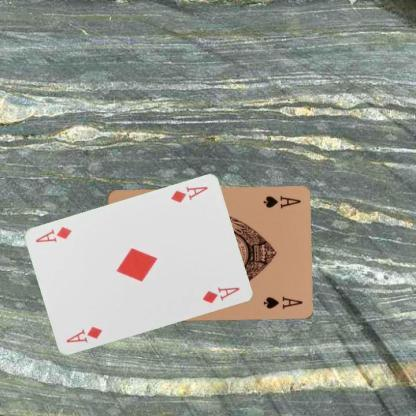Ad: (168, 184, 209, 204), (63, 324, 103, 344)
As: (260, 194, 302, 210)
